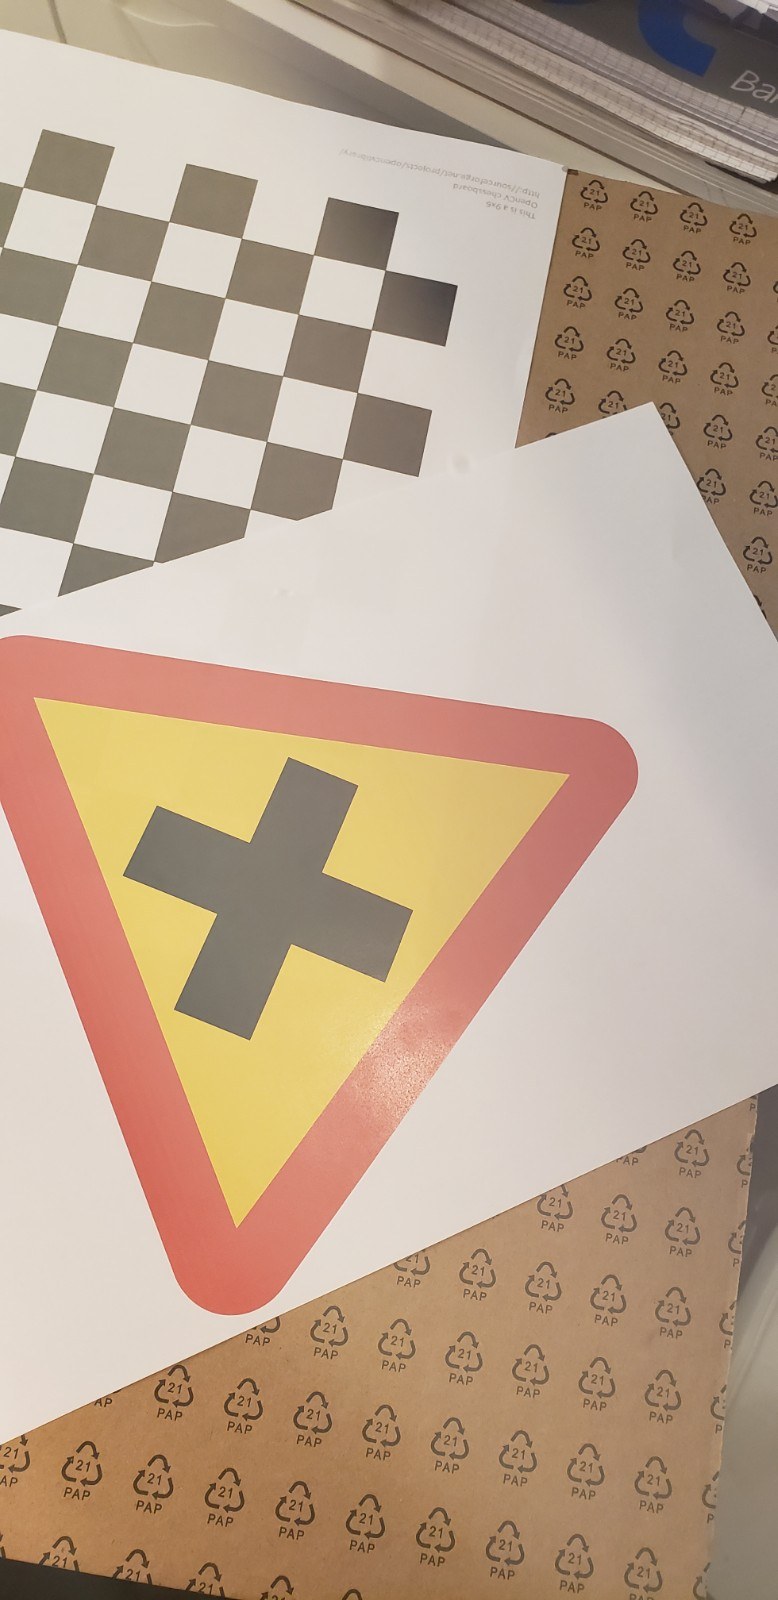junction: (9, 622, 655, 1322)
